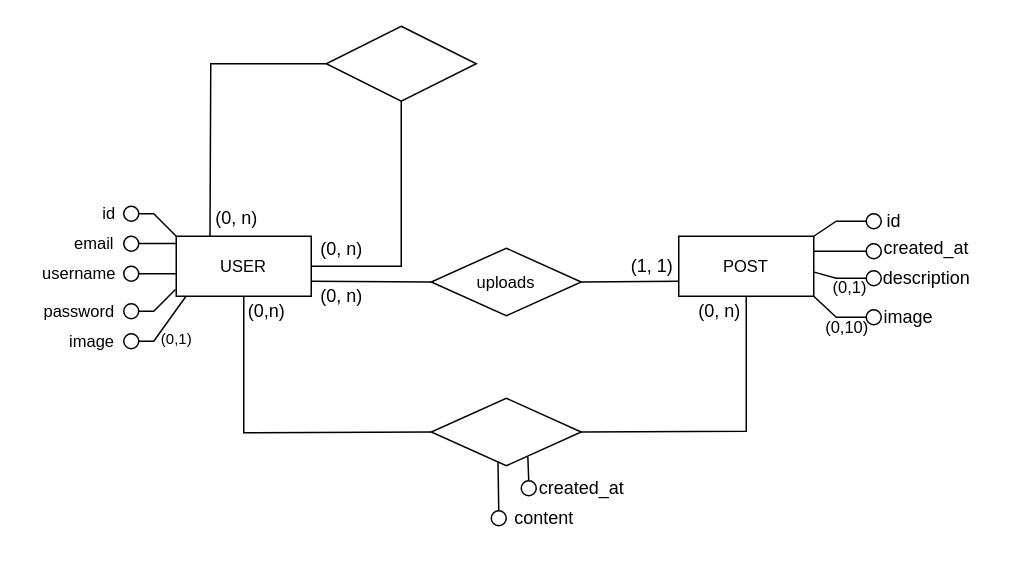
This 1026x567 diagram has some shape labels left out. Here are the shapes that lost their labels. From the top down, the centre of each, then its label:
At point 400,63: "follows".
At point 505,431: "comments".
